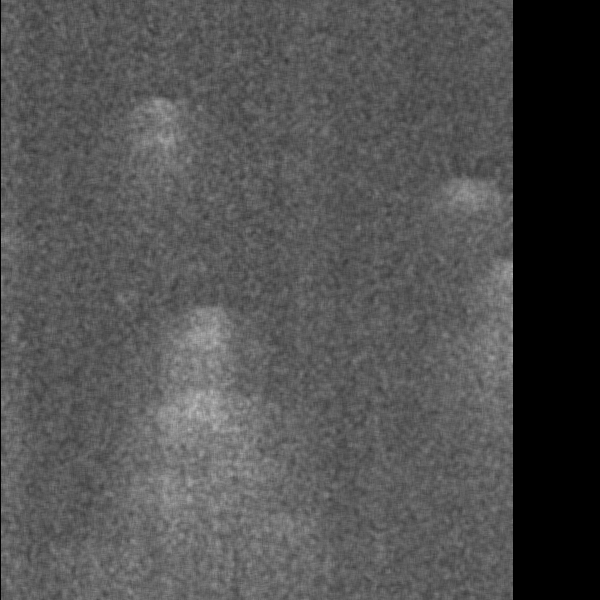spark: (235, 352, 287, 396), (7, 69, 95, 89), (1, 455, 47, 489), (184, 137, 217, 180), (98, 210, 128, 252), (150, 263, 203, 280), (11, 425, 43, 448)
